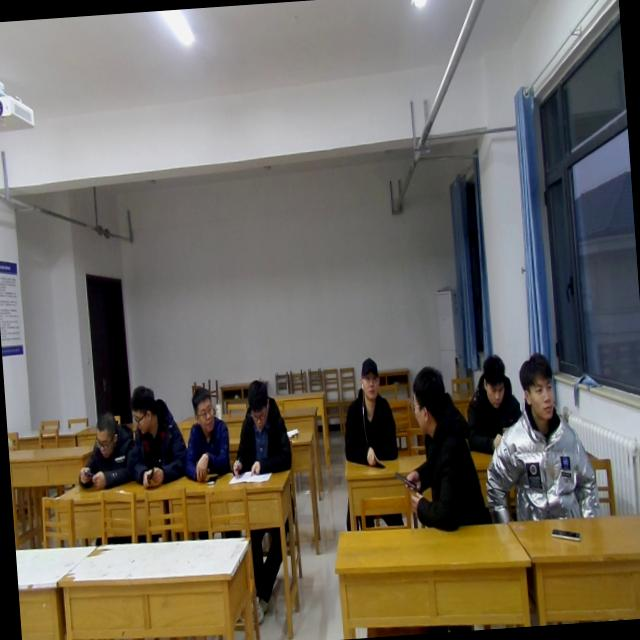bow: (72, 411, 138, 488)
down: (478, 352, 508, 412), (242, 372, 272, 430), (90, 408, 118, 460)
lookup: (515, 350, 560, 424), (352, 353, 382, 408)
sit: (478, 348, 602, 524), (396, 363, 487, 532), (334, 356, 404, 531), (120, 382, 188, 486), (226, 377, 296, 478), (463, 352, 526, 452), (178, 386, 232, 484)
